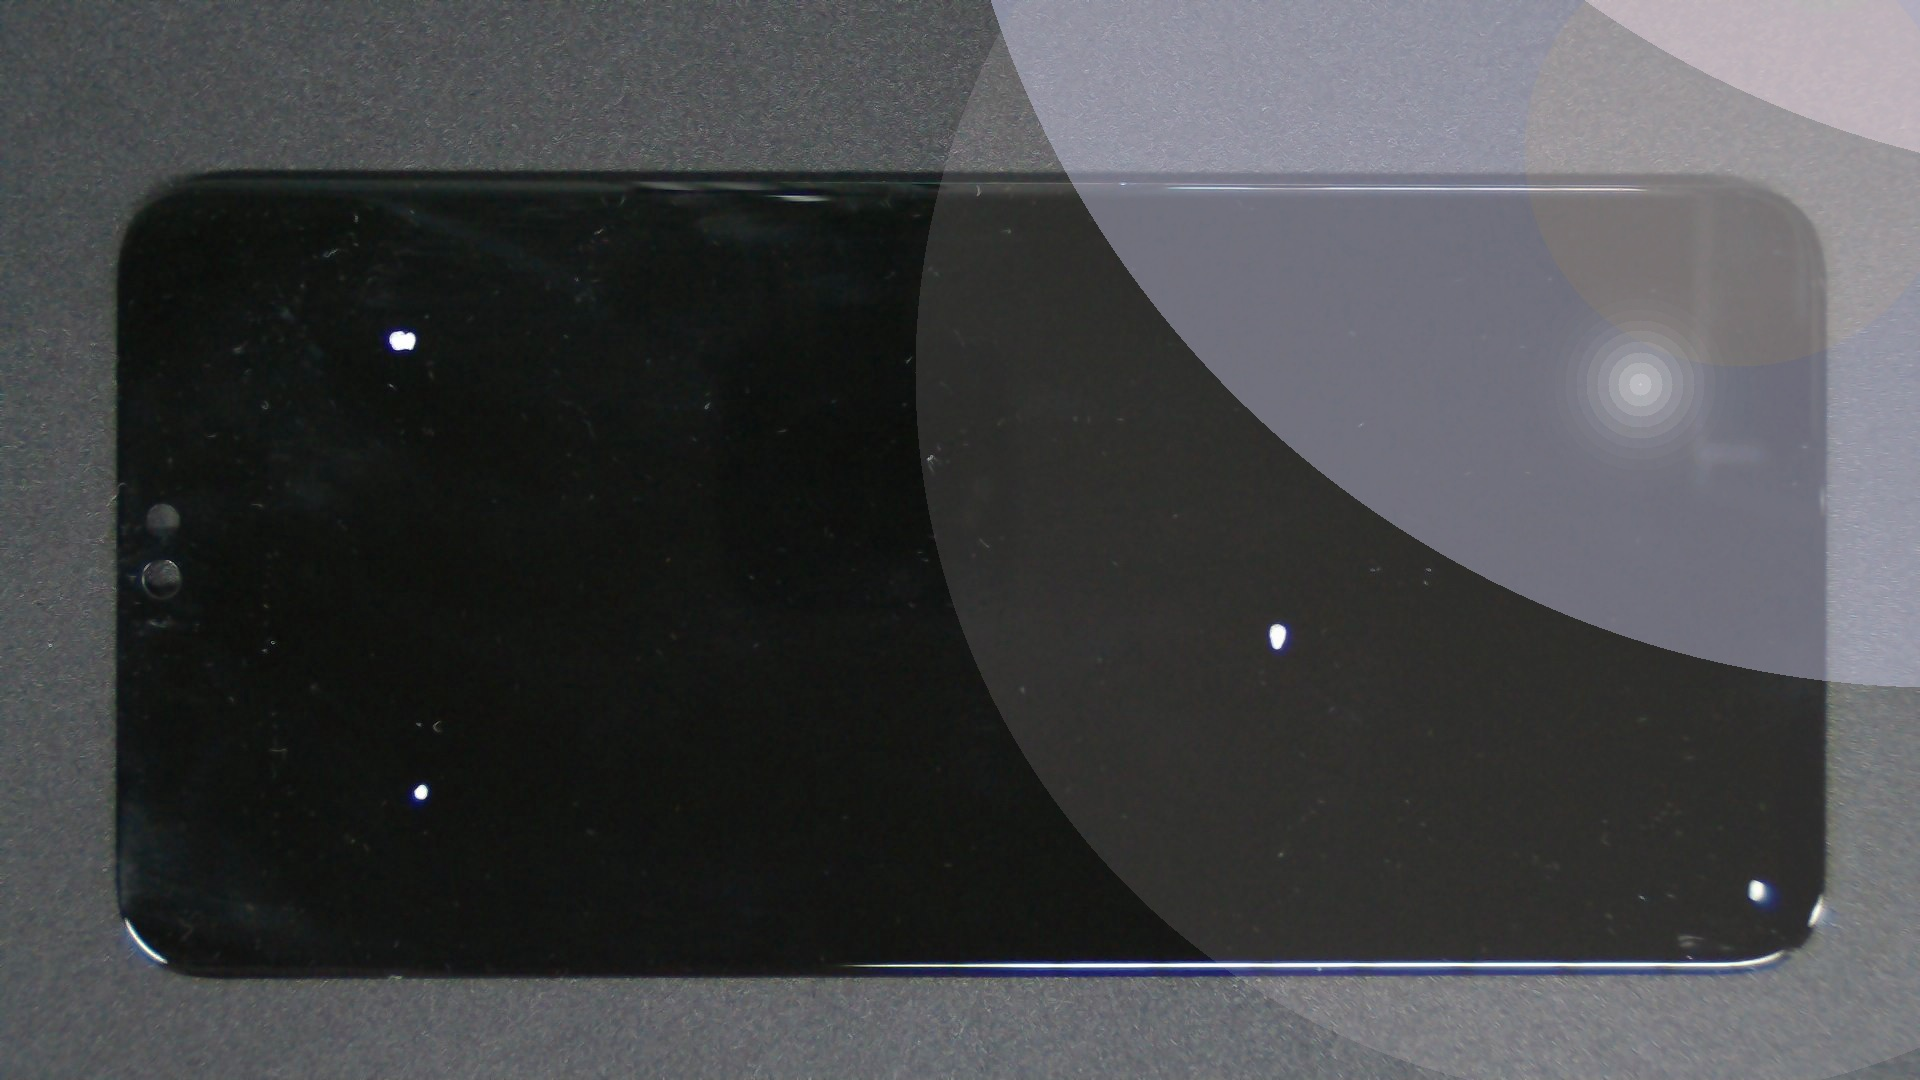oil: (638, 311, 1913, 935), (877, 439, 1920, 1080), (212, 392, 636, 1080), (202, 164, 604, 495)
